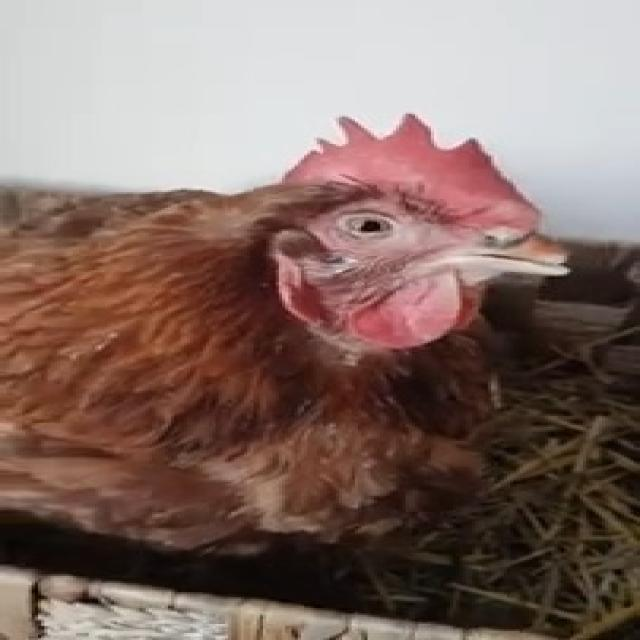Breathing: (0, 110, 573, 556)
